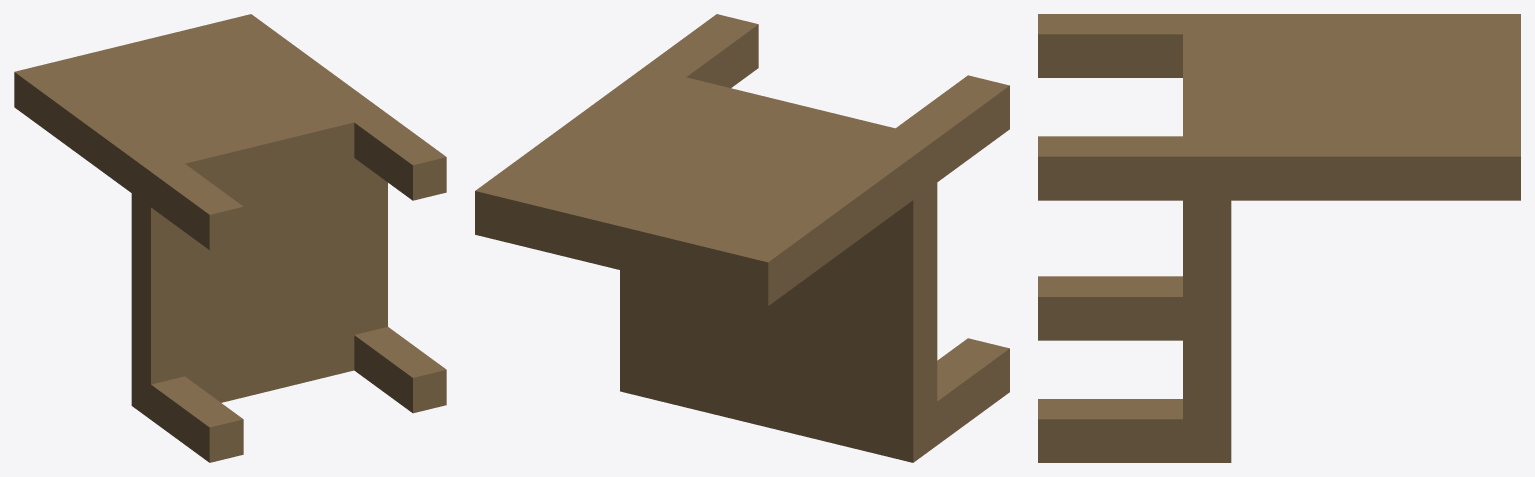
Rendered from dark_oak_chair_held.gltf.
The picture shows the model from 3 angles, left to right: view 1: azimuth 30°, elevation 25°; view 2: azimuth 150°, elevation 25°; view 3: azimuth 270°, elevation 25°; orthographic projection. The views are drawn at different scales.
Parts seen in each view (by area): view 1: building_dark_oak_chair_held; view 2: building_dark_oak_chair_held; view 3: building_dark_oak_chair_held.
Boxes of the visible parts, box(x1,y1,x2,y2) form: building_dark_oak_chair_held: box(14, 14, 446, 462); building_dark_oak_chair_held: box(475, 14, 1009, 462); building_dark_oak_chair_held: box(1038, 14, 1520, 462).
Size of the model in its own units: 0.112 by 0.112 by 0.16.
